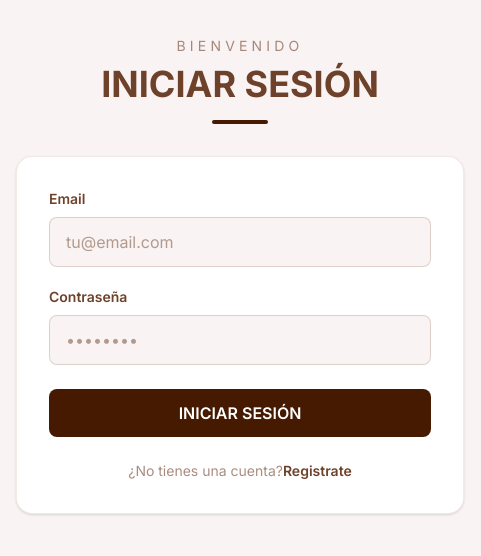
Test: Login › rechaza correos con dominio no permitido
Type "ana@hotmail.com" into the field labelled "Email" at (240, 242), box [49, 217, 431, 267]
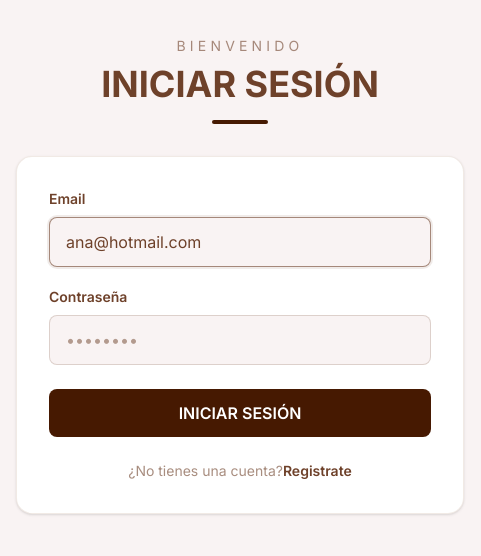
Type "1234" into the password field labelled "Contraseña" at (240, 340), box [49, 315, 431, 365]
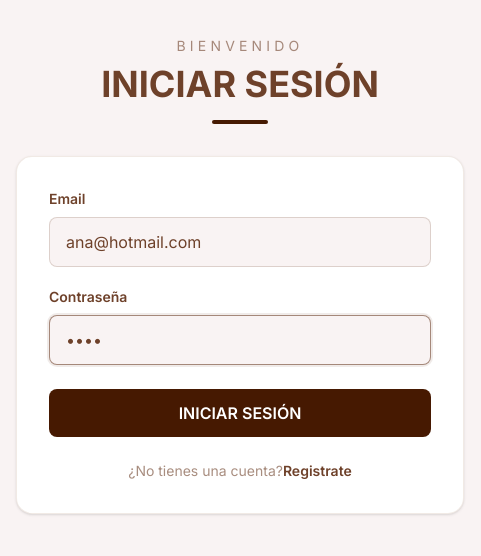
Click the button "INICIAR SESIÓN" at (240, 413), box [49, 389, 431, 437]
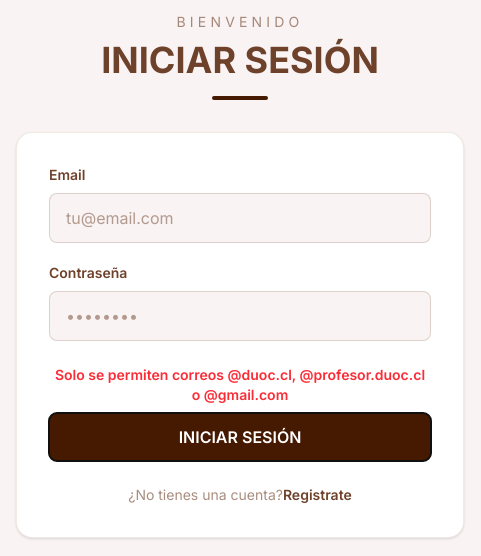
Check: the text "Solo se permiten correos" is shown, box [55, 366, 425, 403]
